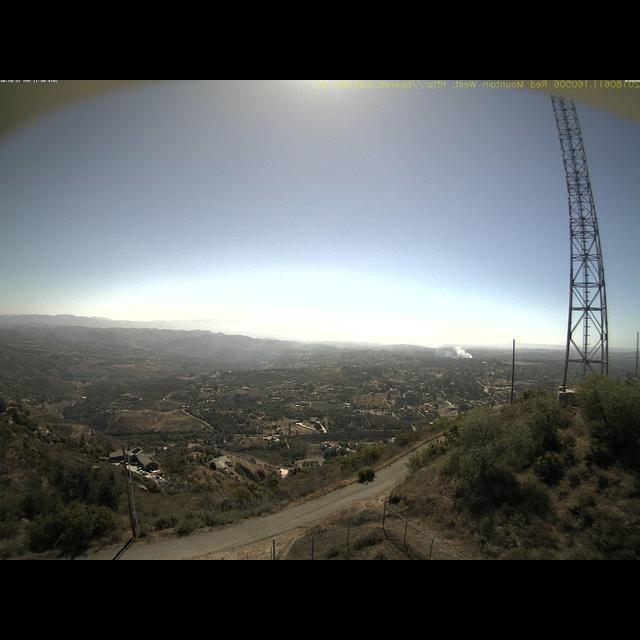Smoke: (431, 337, 478, 360)
